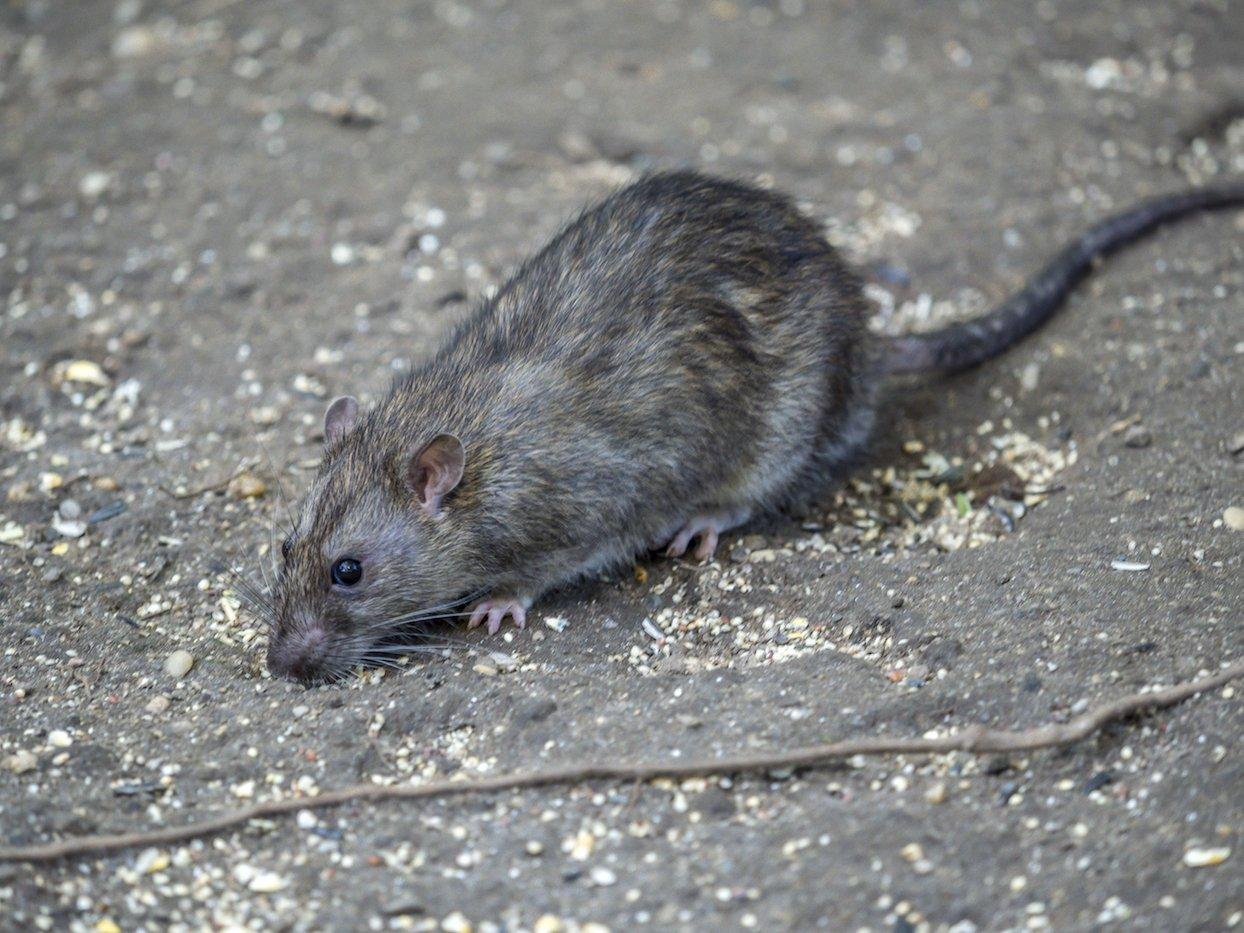rat: (253, 170, 1244, 683)
